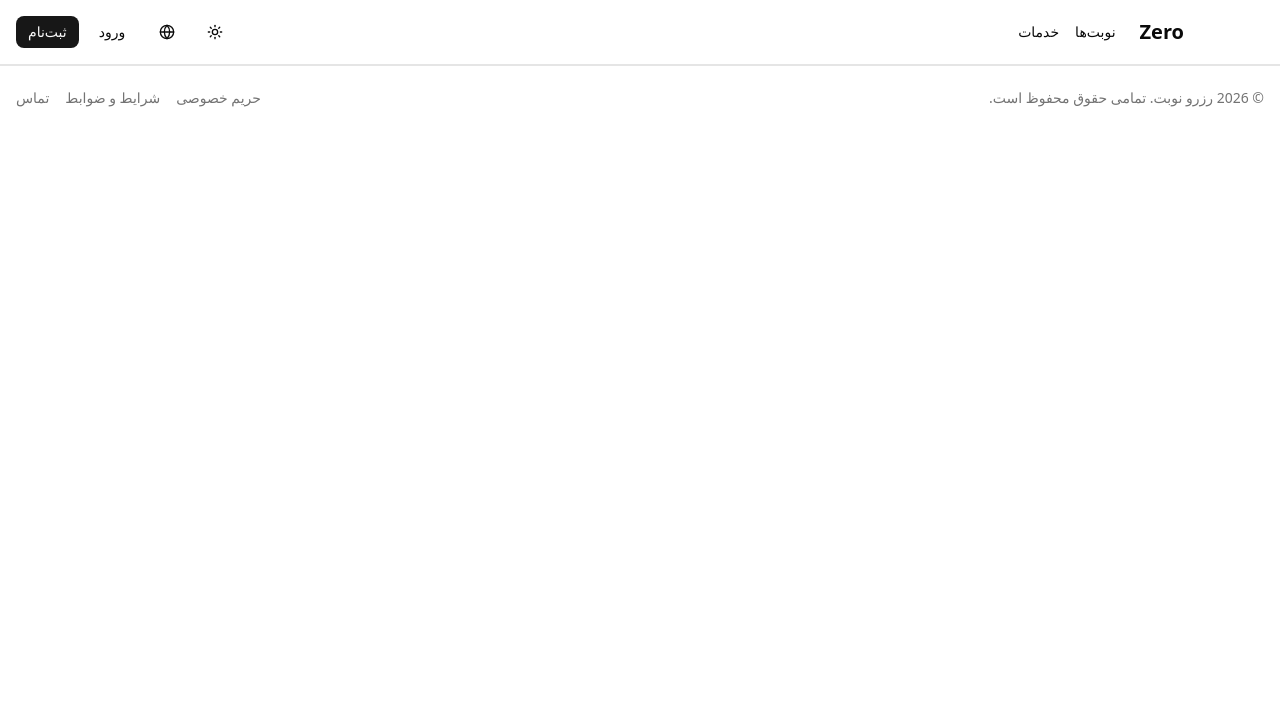
Test: Appointment Booking Application - Comprehensive E2E Tests › Public Pages Navigation › should navigate to sign up page
The image size is (1280, 720).
Click on Sign Up button
Click the link "ثبت‌نام" at (48, 32), box [16,16,79,48]
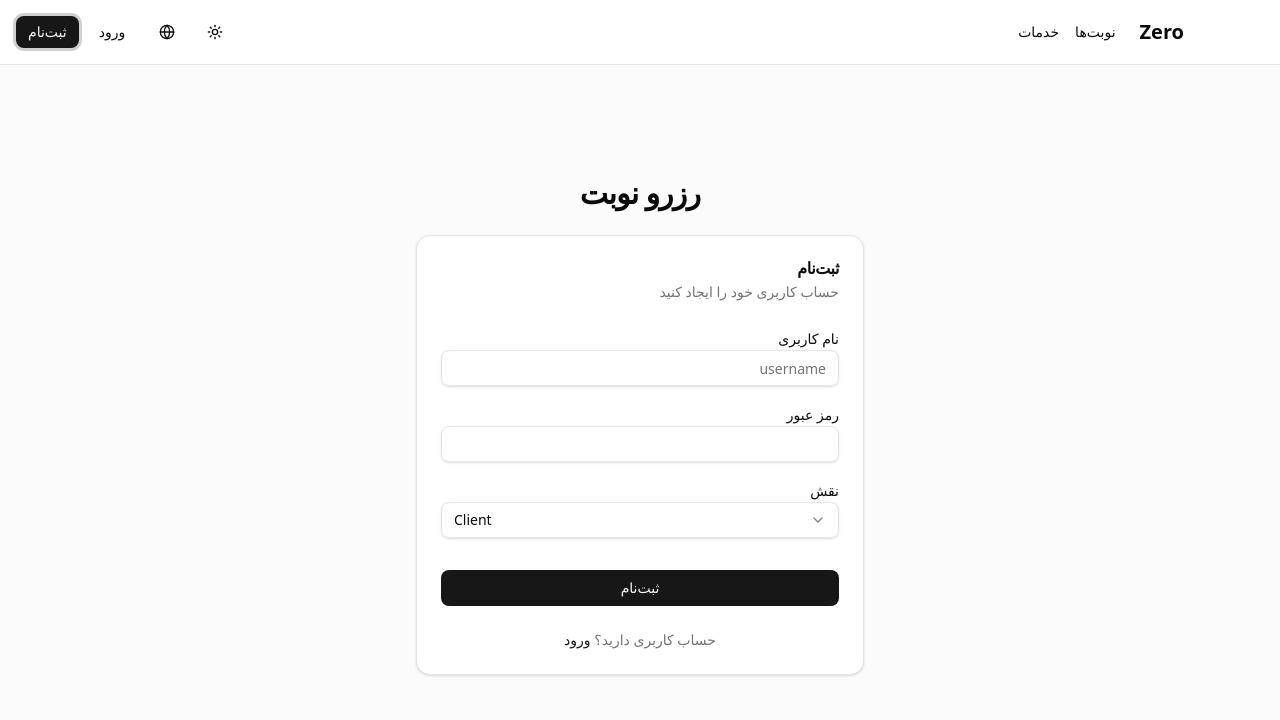
Expected: the text "نام کاربری" is shown, [778,329,839,348]
Expected: the text "رمز عبور" is shown, [787,405,839,424]
